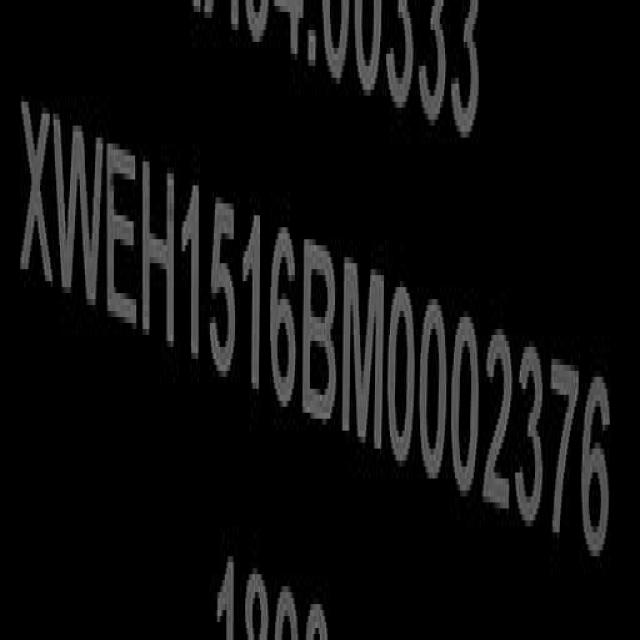0: (418, 294, 449, 490), (384, 270, 415, 459), (450, 306, 480, 500)
1: (181, 175, 202, 372), (241, 217, 263, 399)
2: (483, 326, 511, 523)
3: (513, 343, 545, 536)
5: (210, 193, 237, 381)
6: (581, 366, 613, 570), (269, 222, 295, 416)
7: (546, 359, 580, 558)
B: (302, 232, 339, 430)
E: (105, 135, 138, 346)
H: (139, 157, 180, 368)
M: (341, 250, 386, 470)
W: (55, 104, 103, 319)
X: (18, 86, 55, 312)
